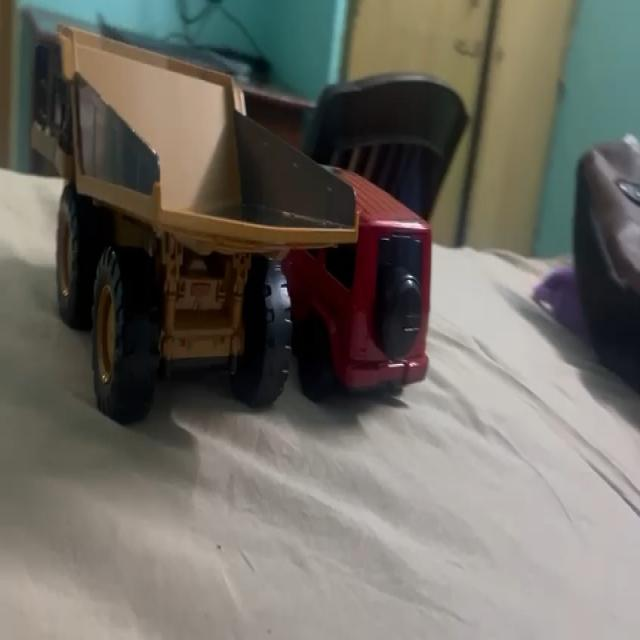dump_truck: (22, 23, 352, 421)
light_vehicle: (361, 190, 440, 385)
